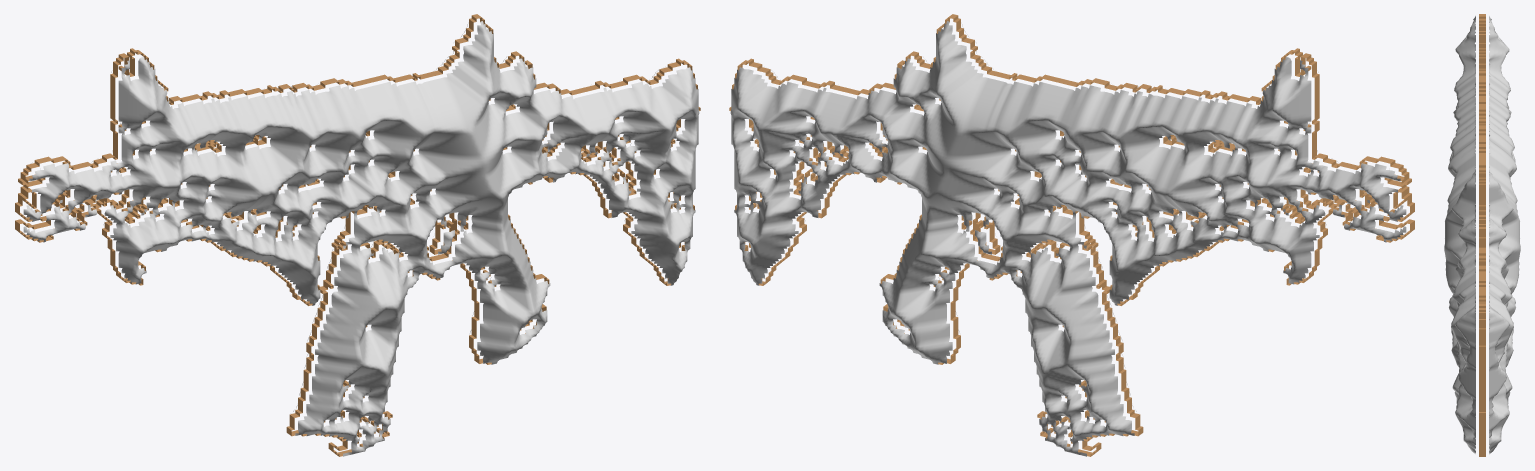
File: codm-drh-cerberus-relief.glb
3 renders of one model, left to right at view 1: azimuth 30°, elevation 25°; view 2: azimuth 150°, elevation 25°; view 3: azimuth 270°, elevation 25°, orthographic. The views are drawn at different scales.
Visible parts, largest first — view 1: projected-skin, silhouette-edge; view 2: projected-skin, silhouette-edge; view 3: projected-skin, silhouette-edge.
Part boxes in pixels (box(x1,y1,x2,y2)): projected-skin: box(23, 21, 699, 456); silhouette-edge: box(15, 14, 700, 456); projected-skin: box(730, 21, 1406, 456); silhouette-edge: box(729, 14, 1414, 456); projected-skin: box(1444, 16, 1520, 453); silhouette-edge: box(1479, 14, 1485, 456).
Bounding box in the file's own units: 0.9529 × 0.6078 × 0.1316.
